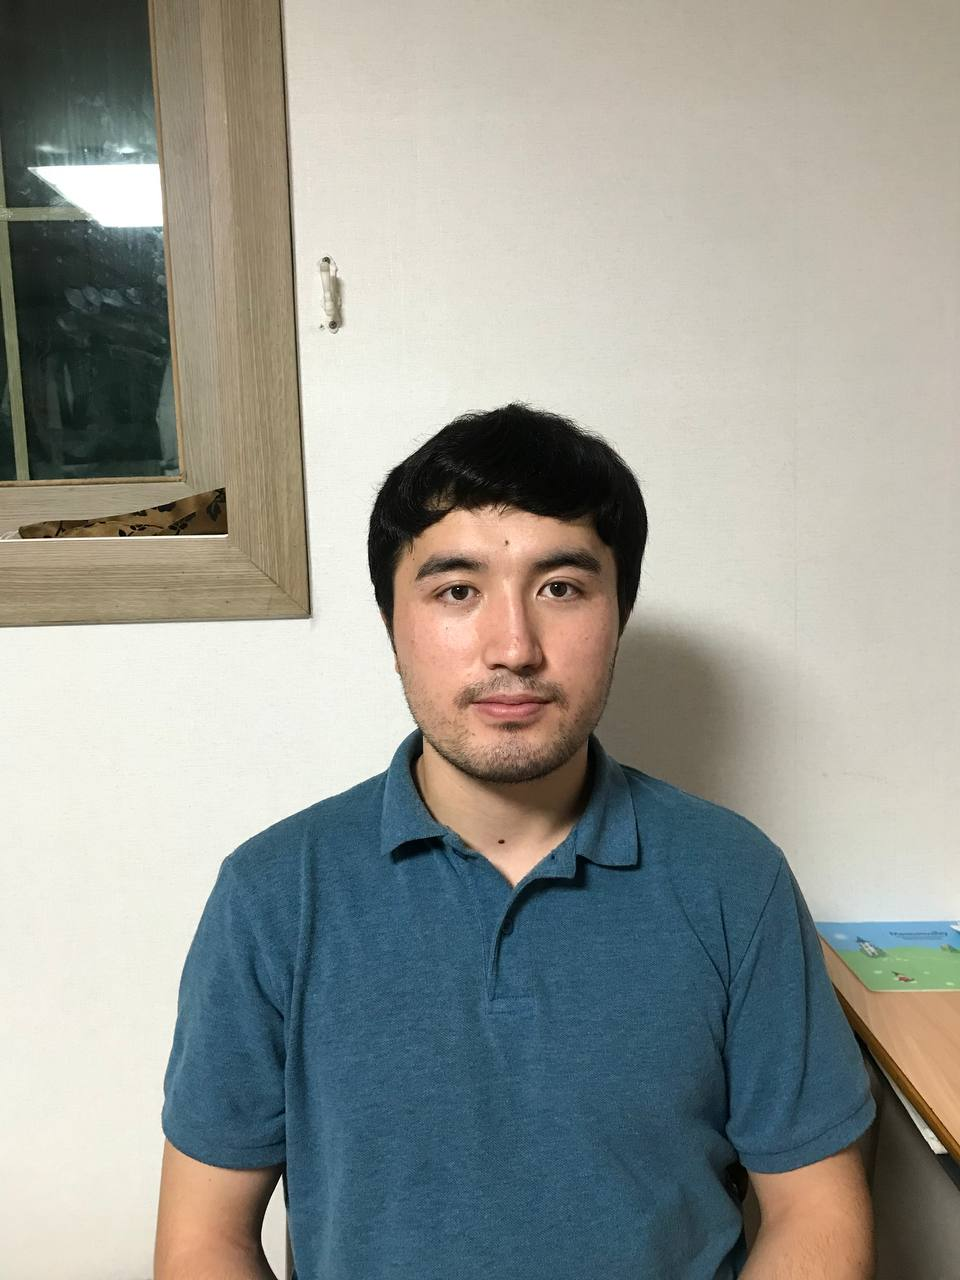NoMask: (390, 617, 628, 781)
